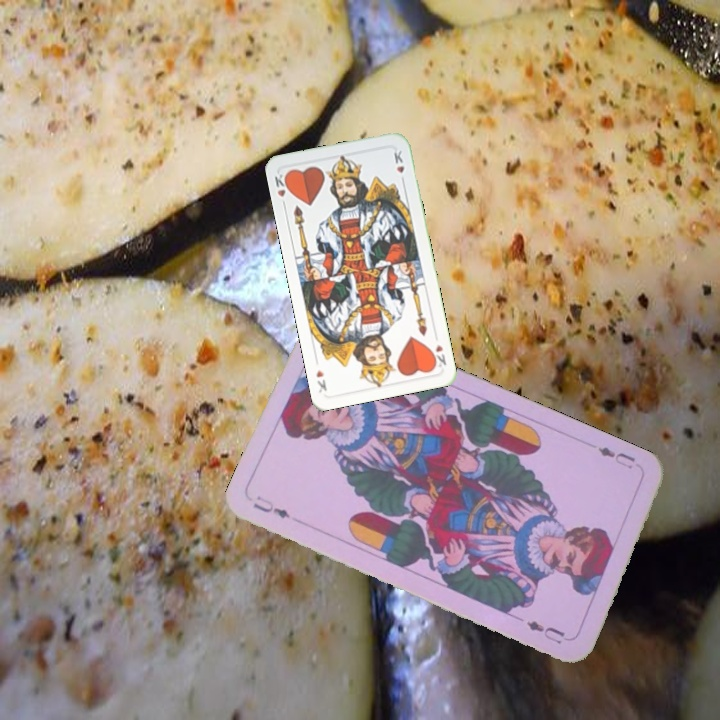EU: (594, 442, 638, 472), (249, 491, 293, 521)
HK: (270, 170, 293, 210), (427, 340, 449, 371)
